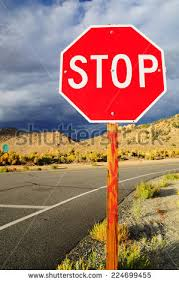Stop: (60, 23, 173, 124)
